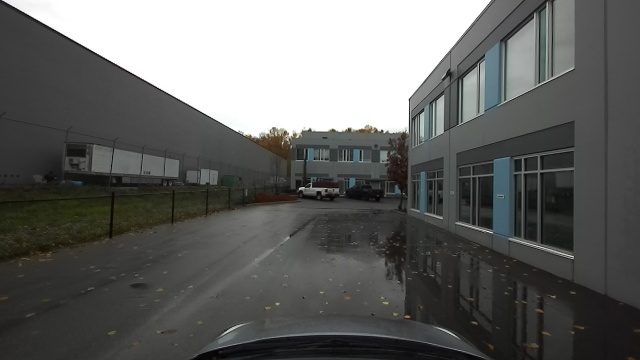car: (298, 180, 341, 199), (346, 184, 385, 202)
